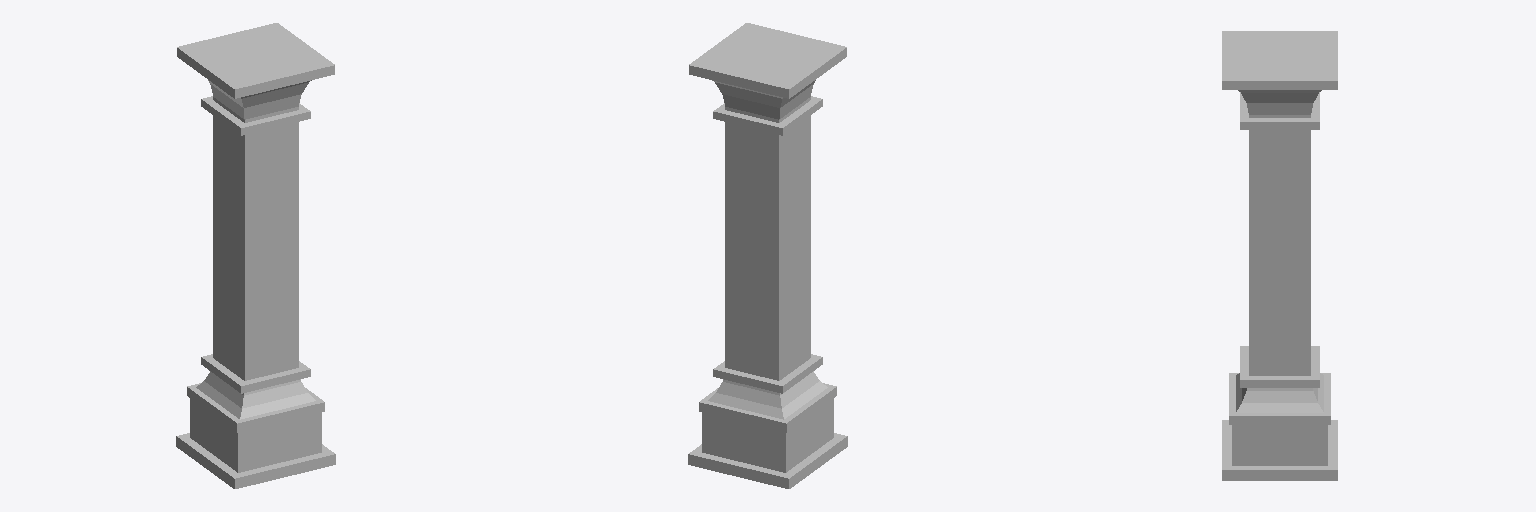
File: Column 1.obj
3 views of the same model, side by side, from view 1: azimuth 30°, elevation 25°; view 2: azimuth 150°, elevation 25°; view 3: azimuth 270°, elevation 25° (orthographic).
Bounding box in the file's own units: 0.8217 × 3.11 × 0.8217.